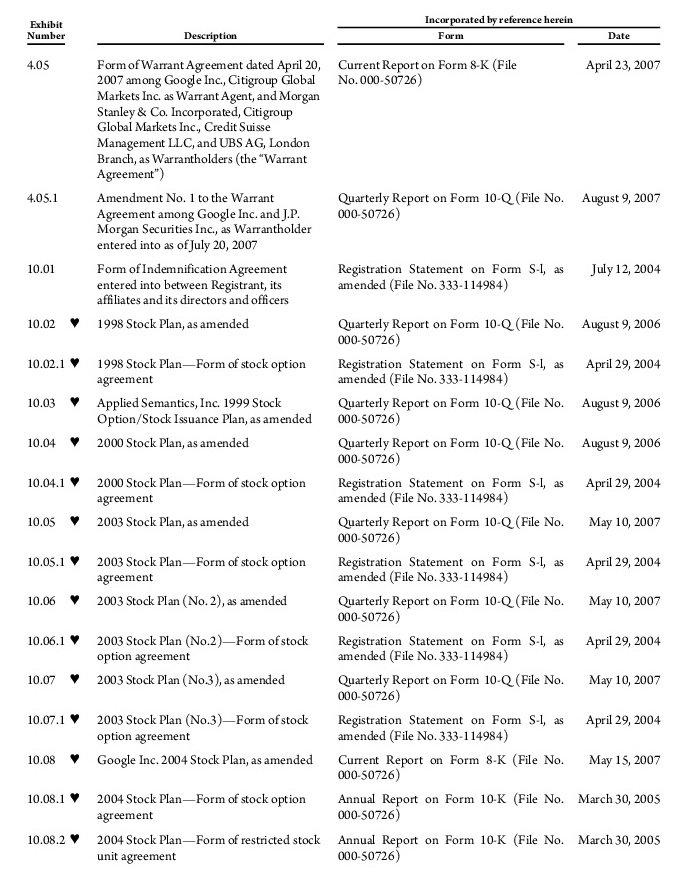table: (0, 0, 683, 881)
